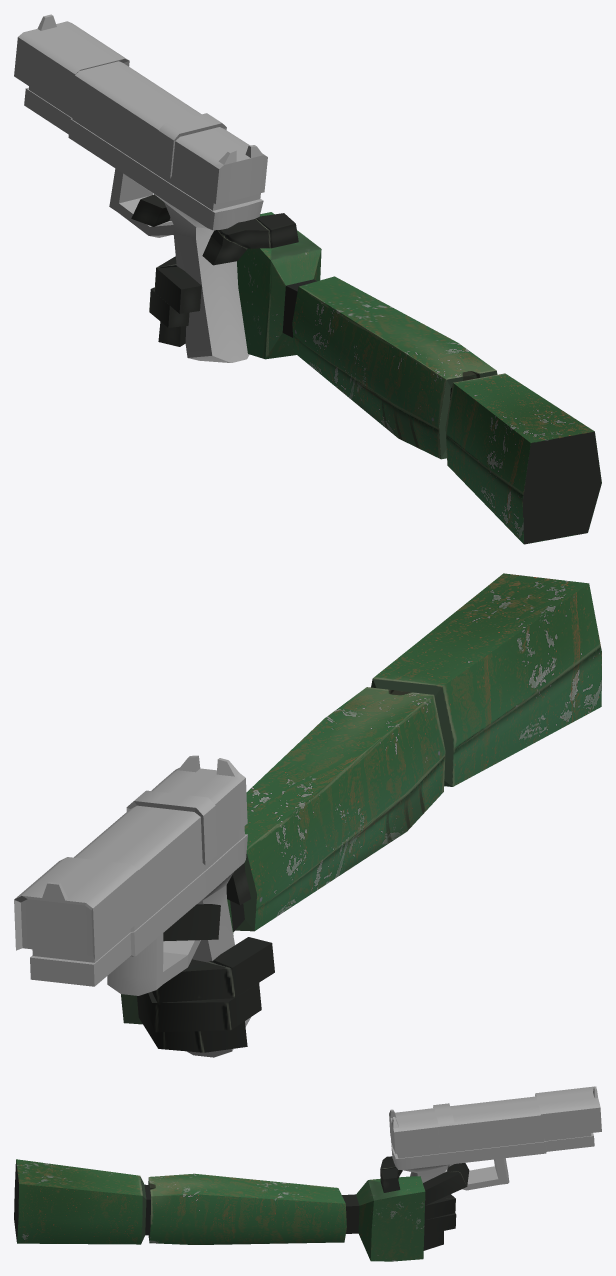
The model's file is SeperatedGun+Arm_But_I_didnt_move_The_Pieces.fbx.
3 views of the same model, one above another, from view 1: azimuth 30°, elevation 25°; view 2: azimuth 150°, elevation 25°; view 3: azimuth 270°, elevation 25° (orthographic). The views are drawn at different scales.
Parts seen in each view (by area): view 1: Arm, Gun; view 2: Arm, Gun; view 3: Arm, Gun.
Boxes of the visible parts, x1=… form: Arm: x1=131, y1=194, x2=601, y2=544; Gun: x1=14, y1=14, x2=267, y2=362; Arm: x1=121, y1=573, x2=601, y2=1052; Gun: x1=14, y1=755, x2=250, y2=1057; Arm: x1=14, y1=1156, x2=469, y2=1261; Gun: x1=389, y1=1086, x2=601, y2=1190.
Bounding box in the file's own units: 0.1341 × 0.2229 × 0.7588.
2 materials, 1 textured.
